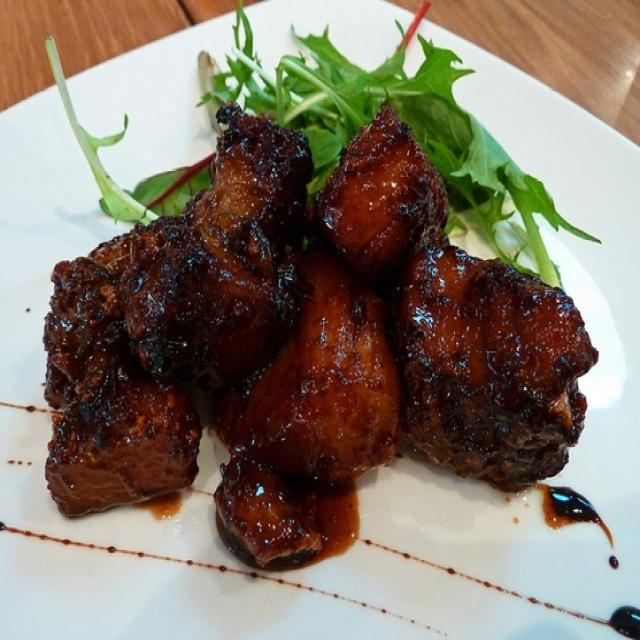牛肉菜式: (46, 16, 592, 613)
